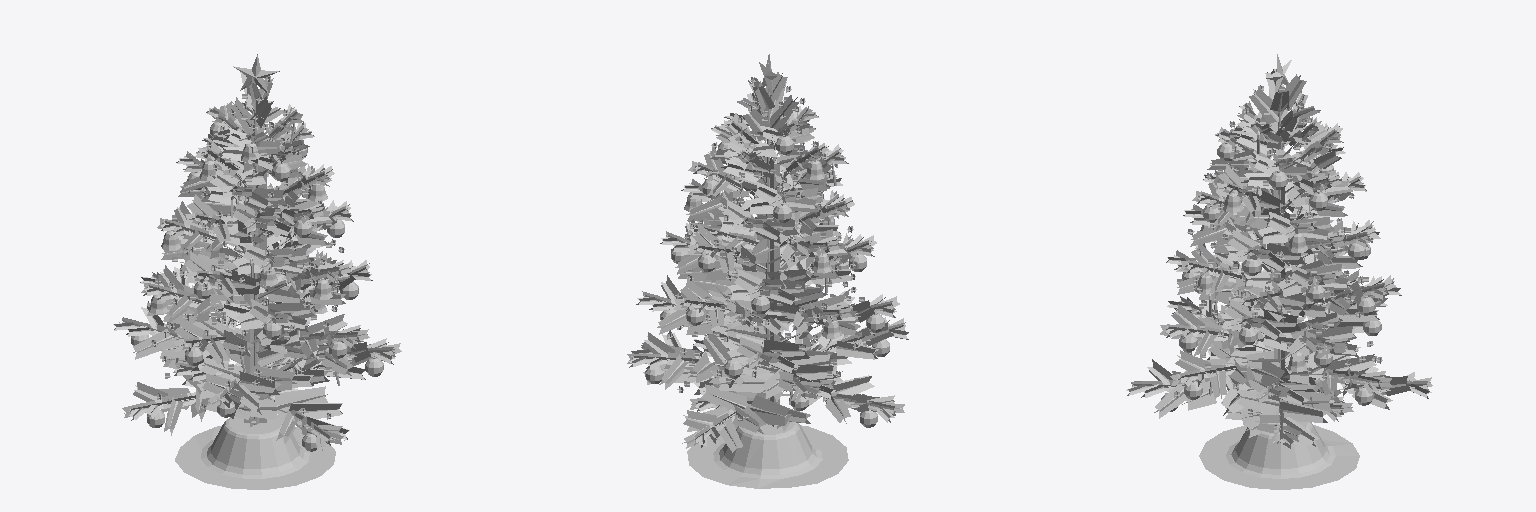
File: smallchristmastreemesh.obj
The picture shows the model from 3 angles: view 1: azimuth 30°, elevation 25°; view 2: azimuth 150°, elevation 25°; view 3: azimuth 270°, elevation 25°; orthographic projection.
Parts seen in each view (by area): view 1: smallchristmastreemesh3, smallchristmastreemesh2, smallchristmastreemesh4, smallchristmastreemesh5, smallchristmastreemesh1, smallchristmastreemesh9, smallchristmastreemesh8, smallchristmastreemesh7; view 2: smallchristmastreemesh3, smallchristmastreemesh2, smallchristmastreemesh4, smallchristmastreemesh5, smallchristmastreemesh1, smallchristmastreemesh8, smallchristmastreemesh9, smallchristmastreemesh7; view 3: smallchristmastreemesh3, smallchristmastreemesh2, smallchristmastreemesh4, smallchristmastreemesh5, smallchristmastreemesh1, smallchristmastreemesh8, smallchristmastreemesh7, smallchristmastreemesh9.
Part boxes in pixels (bbox=[...]): smallchristmastreemesh3: bbox=[113, 241, 401, 450]; smallchristmastreemesh2: bbox=[157, 72, 353, 426]; smallchristmastreemesh4: bbox=[175, 415, 335, 489]; smallchristmastreemesh5: bbox=[131, 54, 383, 451]; smallchristmastreemesh1: bbox=[122, 83, 397, 438]; smallchristmastreemesh9: bbox=[151, 76, 343, 413]; smallchristmastreemesh8: bbox=[151, 96, 344, 419]; smallchristmastreemesh7: bbox=[155, 94, 338, 423]; smallchristmastreemesh3: bbox=[627, 233, 908, 452]; smallchristmastreemesh2: bbox=[660, 72, 876, 426]; smallchristmastreemesh4: bbox=[687, 422, 848, 488]; smallchristmastreemesh5: bbox=[645, 54, 889, 427]; smallchristmastreemesh1: bbox=[636, 63, 893, 441]; smallchristmastreemesh8: bbox=[684, 85, 864, 419]; smallchristmastreemesh9: bbox=[675, 77, 866, 421]; smallchristmastreemesh7: bbox=[666, 86, 875, 401]; smallchristmastreemesh3: bbox=[1126, 234, 1432, 451]; smallchristmastreemesh2: bbox=[1179, 69, 1380, 373]; smallchristmastreemesh4: bbox=[1199, 421, 1359, 489]; smallchristmastreemesh5: bbox=[1161, 54, 1381, 411]; smallchristmastreemesh1: bbox=[1131, 63, 1422, 442]; smallchristmastreemesh8: bbox=[1174, 85, 1382, 397]; smallchristmastreemesh7: bbox=[1184, 90, 1380, 414]; smallchristmastreemesh9: bbox=[1177, 87, 1368, 377].
Size of the model in its own units: 1.93 by 2.82 by 1.95.